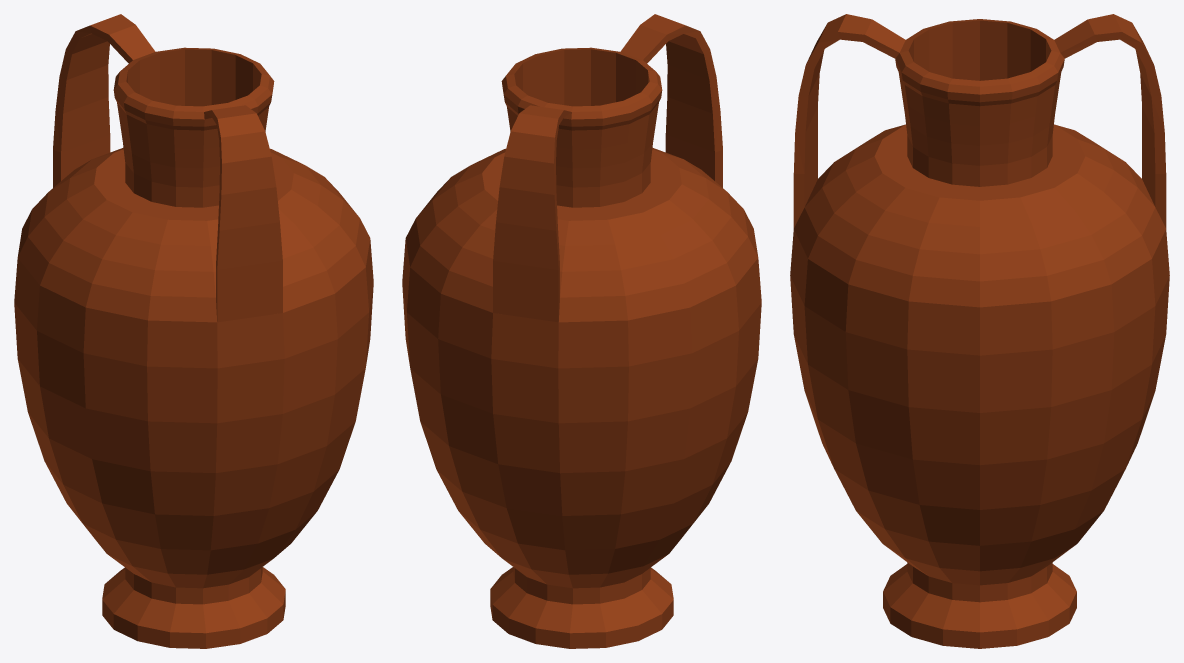
Rendered from Big Amphora.fbx.
3 renders of one model, left to right at view 1: azimuth 30°, elevation 25°; view 2: azimuth 150°, elevation 25°; view 3: azimuth 270°, elevation 25°, orthographic. The views are drawn at different scales.
Visible parts, largest first — view 1: Big Amphora; view 2: Big Amphora; view 3: Big Amphora.
Boxes of the visible parts, bbox=[...] form: Big Amphora: bbox=[14, 14, 373, 648]; Big Amphora: bbox=[402, 14, 761, 648]; Big Amphora: bbox=[790, 14, 1169, 648].
Bounding box in the file's own units: 58.84 × 98.05 × 58.84.
